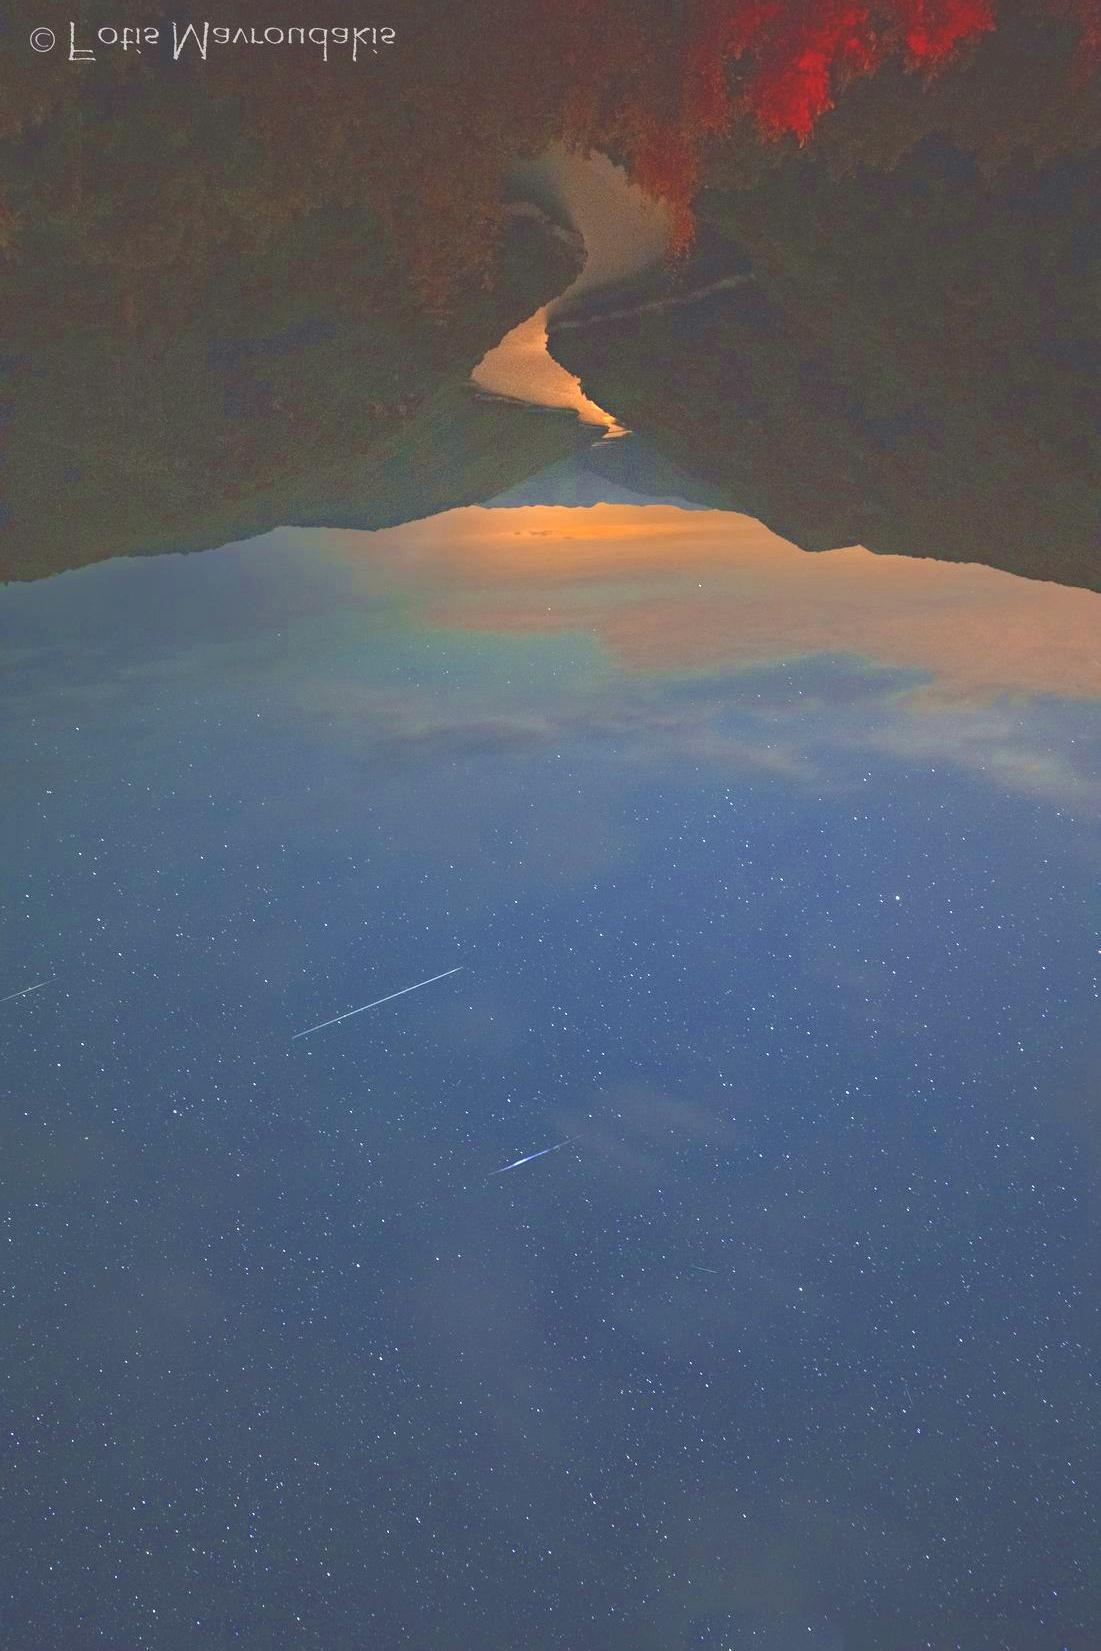meteorite: (295, 940, 480, 1058), (476, 1126, 594, 1185), (0, 964, 84, 999)
